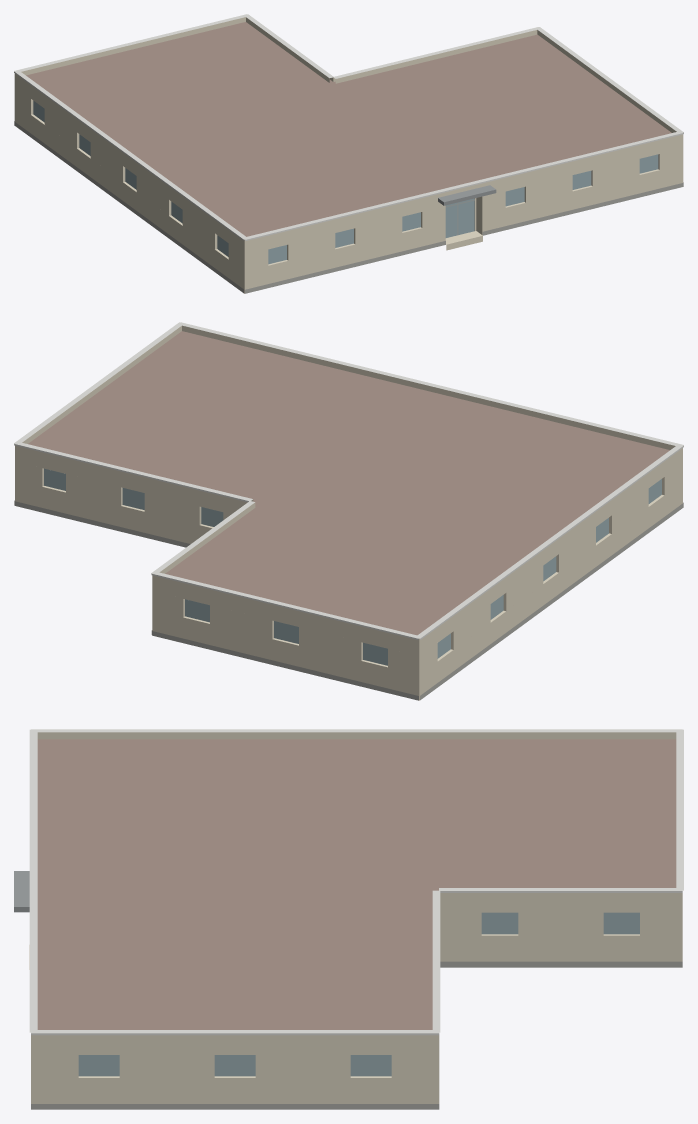
The picture shows the model from 3 angles, top to bottom: view 1: azimuth 30°, elevation 25°; view 2: azimuth 150°, elevation 25°; view 3: azimuth 270°, elevation 25°; orthographic projection. The views are drawn at different scales.
Parts seen in each view (by area): view 1: b1389446812__roof, b1389446812__wall, b1389446812__trim, b1389446812__parapet, b1389446812__glass, b1389446812__base, b1389446812__canopy, b1389446812__entranceThreshold_0; view 2: b1389446812__roof, b1389446812__wall, b1389446812__trim, b1389446812__parapet, b1389446812__base, b1389446812__glass; view 3: b1389446812__roof, b1389446812__wall, b1389446812__trim, b1389446812__parapet, b1389446812__glass, b1389446812__base, b1389446812__canopy.
Part boxes in pixels (box(x1,y1,x2,y2)): b1389446812__roof: box(26, 22, 671, 293); b1389446812__wall: box(14, 76, 683, 293); b1389446812__trim: box(14, 14, 683, 240); b1389446812__parapet: box(14, 17, 683, 244); b1389446812__glass: box(33, 100, 658, 264); b1389446812__base: box(14, 121, 683, 293); b1389446812__canopy: box(438, 185, 496, 205); b1389446812__entranceThreshold_0: box(445, 231, 482, 250); b1389446812__roof: box(28, 331, 669, 700); b1389446812__wall: box(15, 449, 682, 700); b1389446812__trim: box(14, 322, 683, 640); b1389446812__parapet: box(15, 325, 682, 643); b1389446812__base: box(14, 500, 683, 700); b1389446812__glass: box(44, 468, 661, 665); b1389446812__roof: box(37, 739, 676, 1029); b1389446812__wall: box(31, 897, 682, 1103); b1389446812__trim: box(29, 729, 683, 1035); b1389446812__parapet: box(31, 732, 682, 1039); b1389446812__glass: box(78, 912, 639, 1076); b1389446812__base: box(31, 961, 682, 1109); b1389446812__canopy: box(14, 871, 29, 912).
Size of the model in its own units: 33.63 by 4.35 by 31.31.
